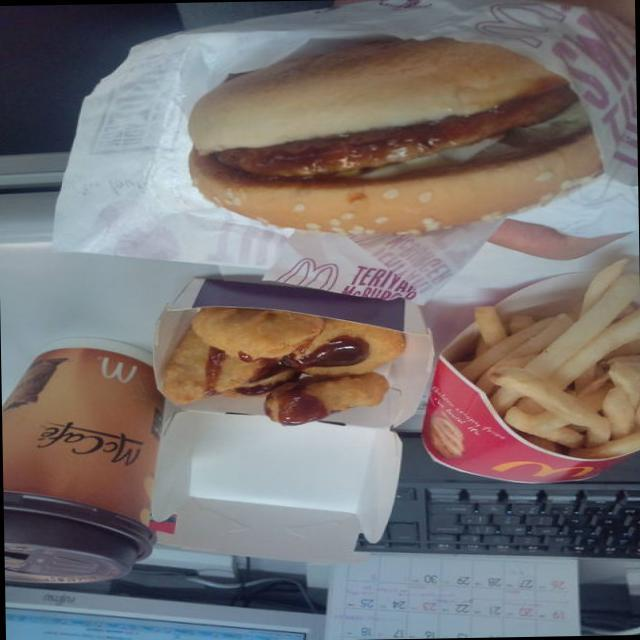French Fries: (448, 256, 638, 458)
Hamburger: (173, 26, 601, 260)
